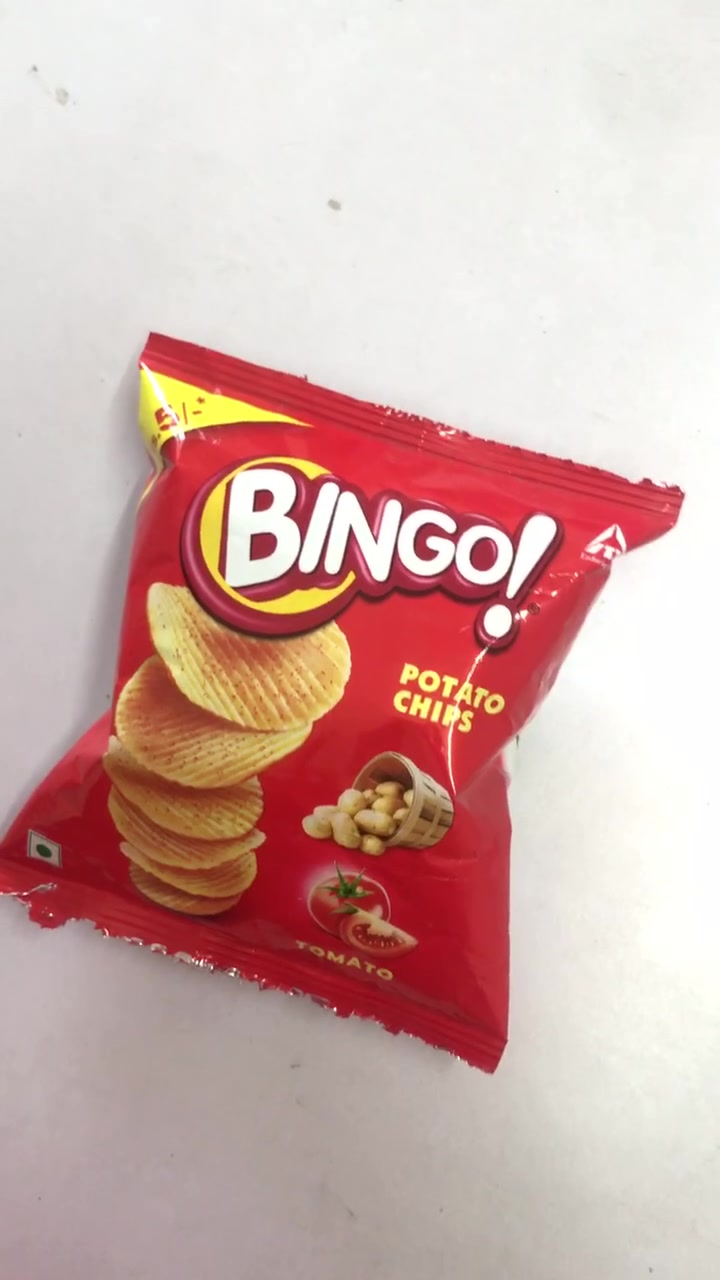Bingo: (9, 337, 684, 1070)
